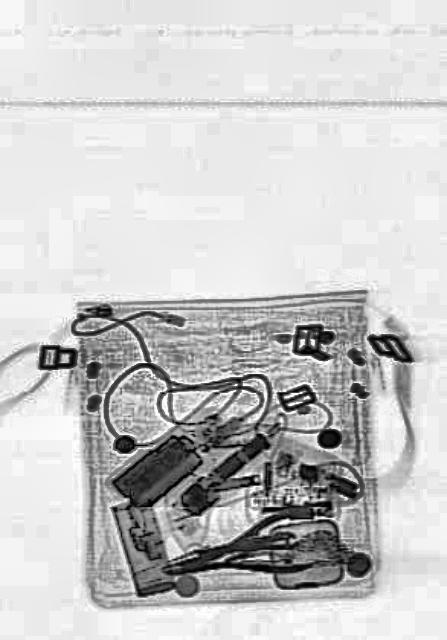Pliers: (154, 498, 320, 604)
